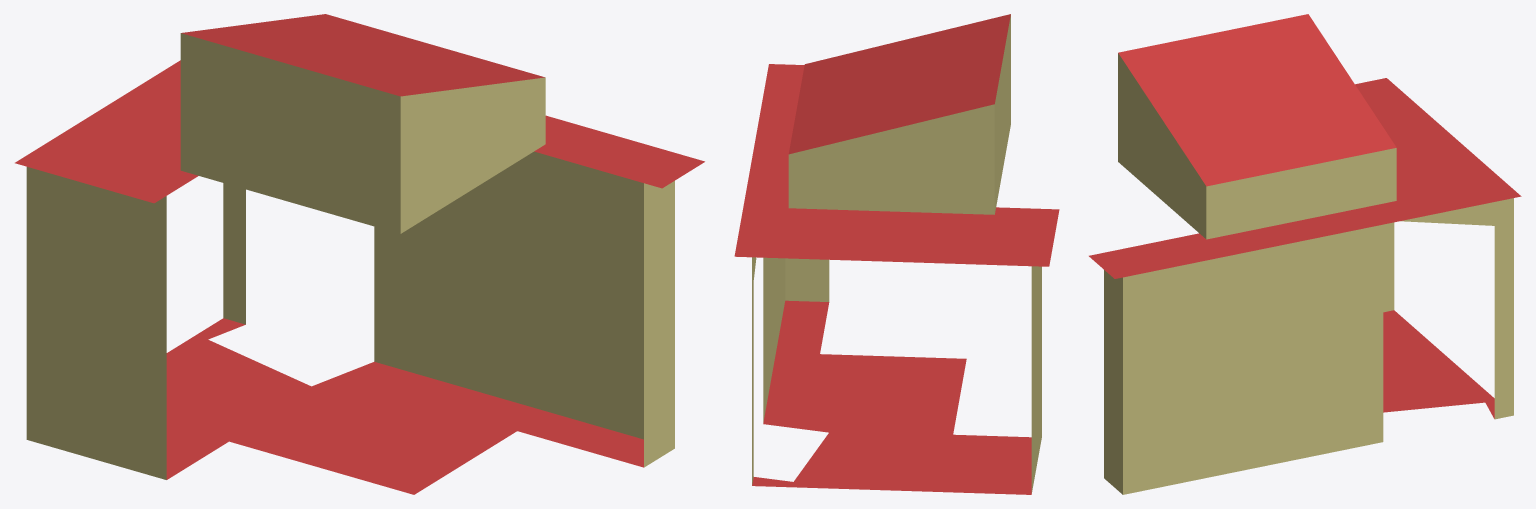
3 renders of one model, left to right at view 1: azimuth 30°, elevation 25°; view 2: azimuth 150°, elevation 25°; view 3: azimuth 270°, elevation 25°, orthographic. The views are drawn at different scales.
Bounding box in the file's own units: 13.65 × 12.42 × 10.59.
